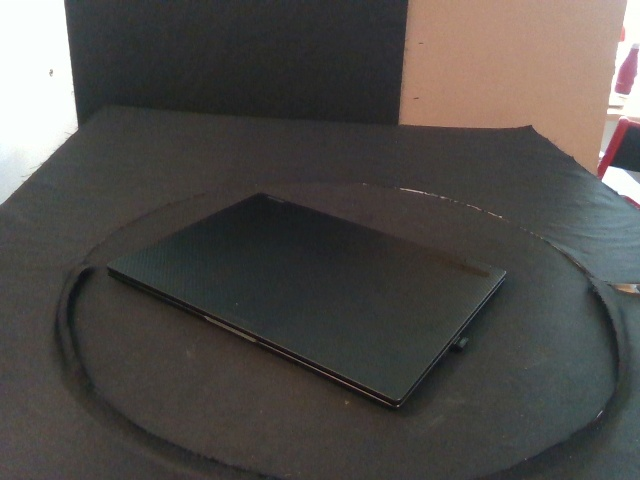laptop: (104, 192, 507, 411)
